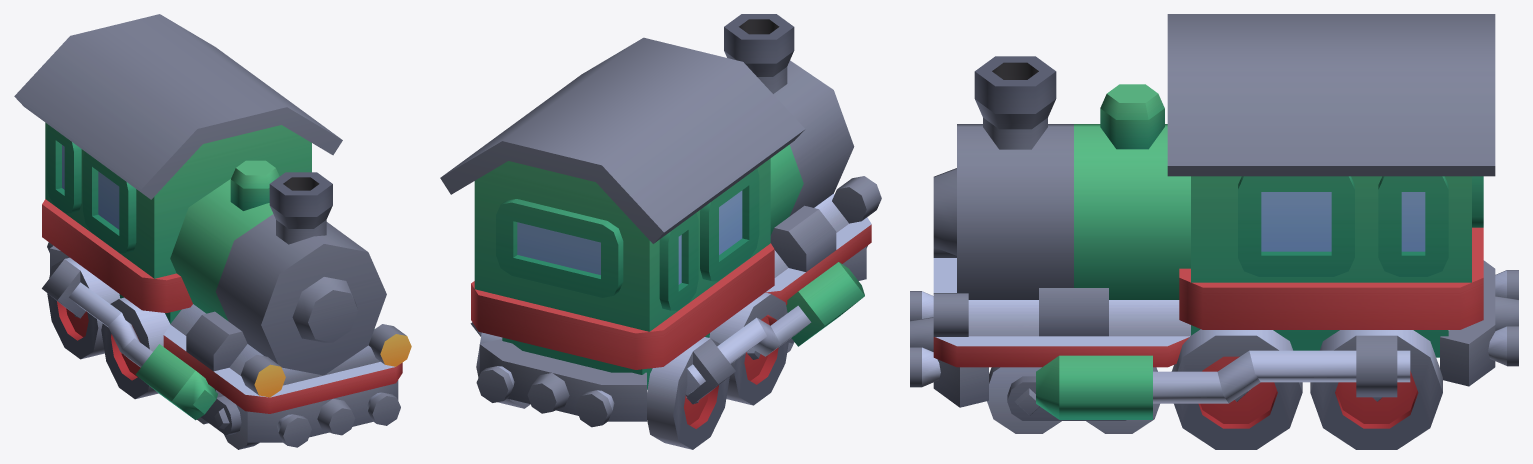
File: kenney-train-train-locomotive-a.glb
The picture shows the model from 3 angles, left to right: view 1: azimuth 30°, elevation 25°; view 2: azimuth 150°, elevation 25°; view 3: azimuth 270°, elevation 25°; orthographic projection. The views are drawn at different scales.
Visible parts, largest first — view 1: train-locomotive-a; view 2: train-locomotive-a; view 3: train-locomotive-a.
Part boxes in pixels (x1,y1,x2,y2): train-locomotive-a: (14,14,411,449); train-locomotive-a: (440,14,881,449); train-locomotive-a: (910,14,1518,449).
Bounding box in the file's own units: 1.43 × 1.66 × 2.6.
1 material, 1 textured.
